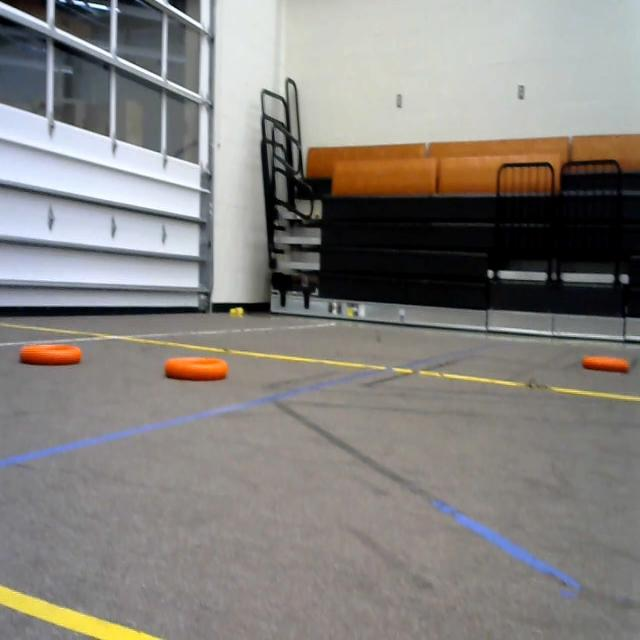note: (164, 345, 234, 394), (15, 337, 83, 374), (580, 344, 631, 379)
